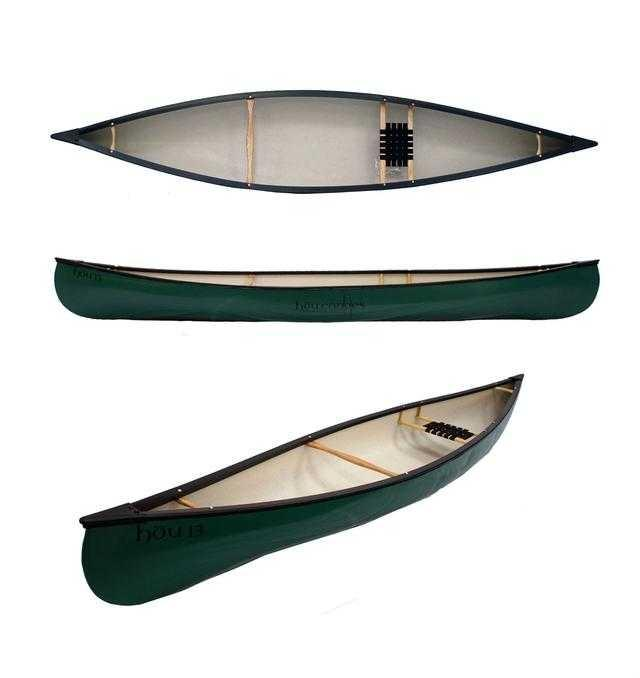kayak: (49, 92, 601, 324), (78, 374, 526, 608), (57, 260, 595, 324)
